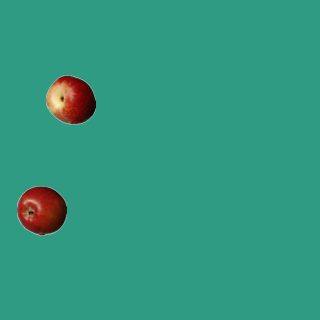Apple Braeburn: (16, 185, 66, 235)
Nectarine: (45, 74, 95, 124)
